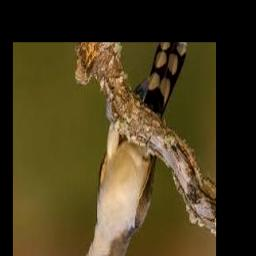Cuckoo: (70, 43, 188, 256)
